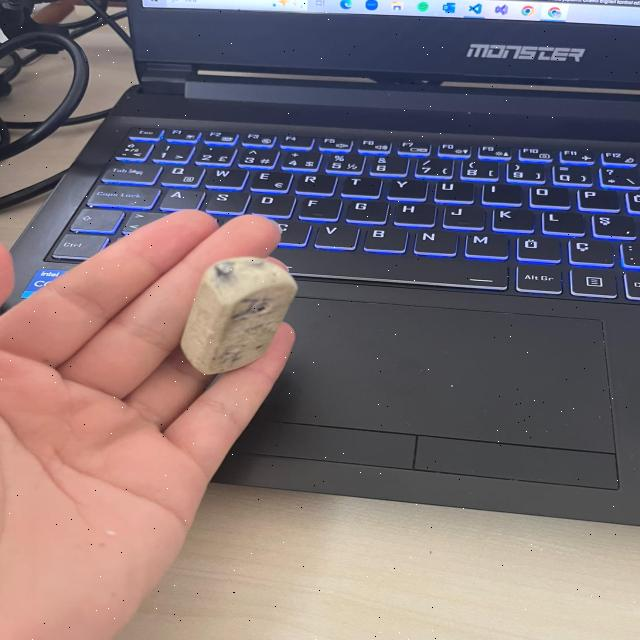eraser: (174, 253, 303, 399)
